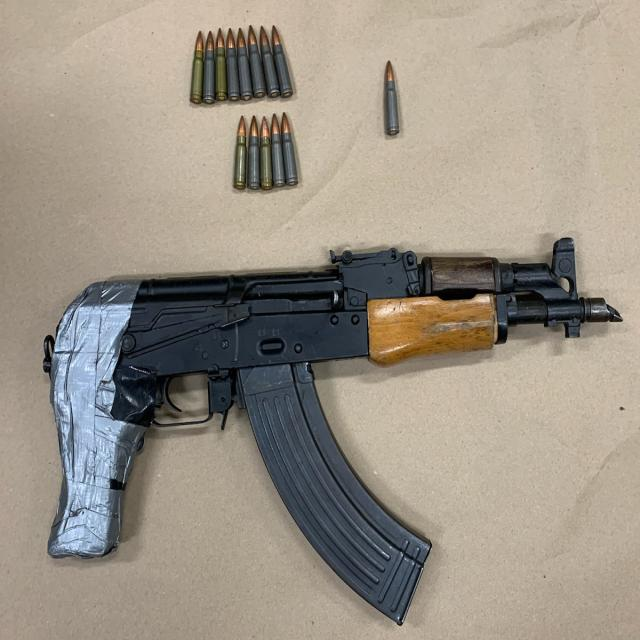Rifle: (45, 239, 617, 626)
